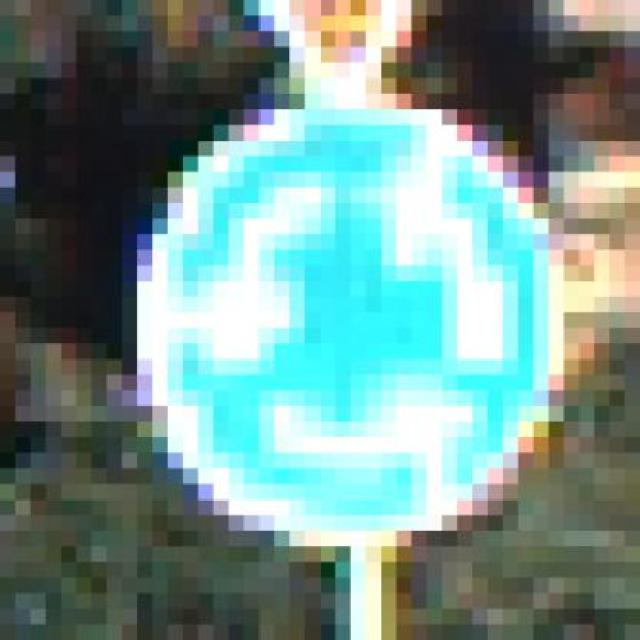Round-About: (107, 78, 610, 578)
